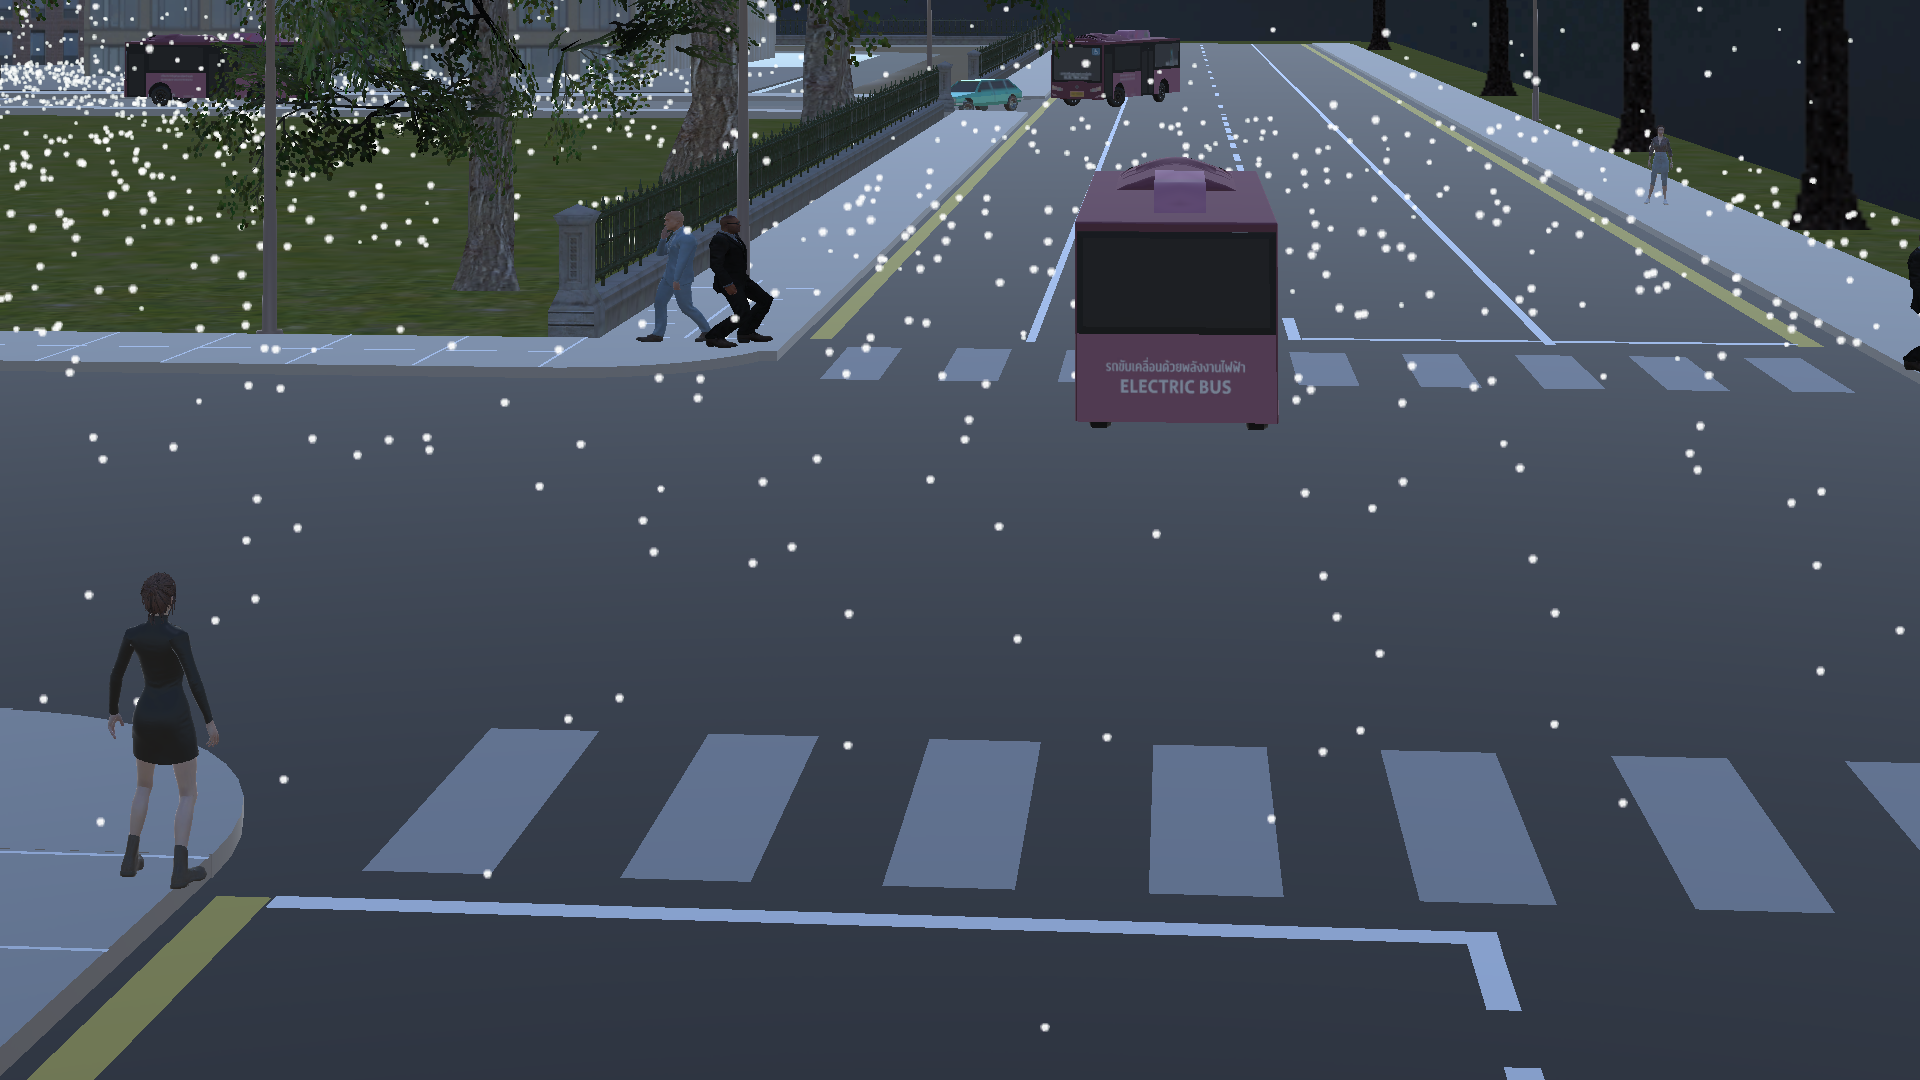pedestrian: (91, 568, 221, 899), (638, 201, 716, 355), (706, 207, 779, 356), (1638, 115, 1678, 221)
